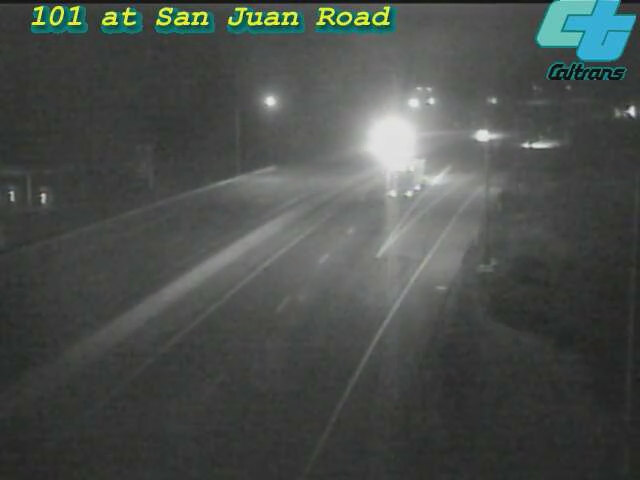vehicle: (371, 139, 451, 219), (357, 117, 407, 167), (458, 110, 508, 160), (513, 117, 563, 167)
